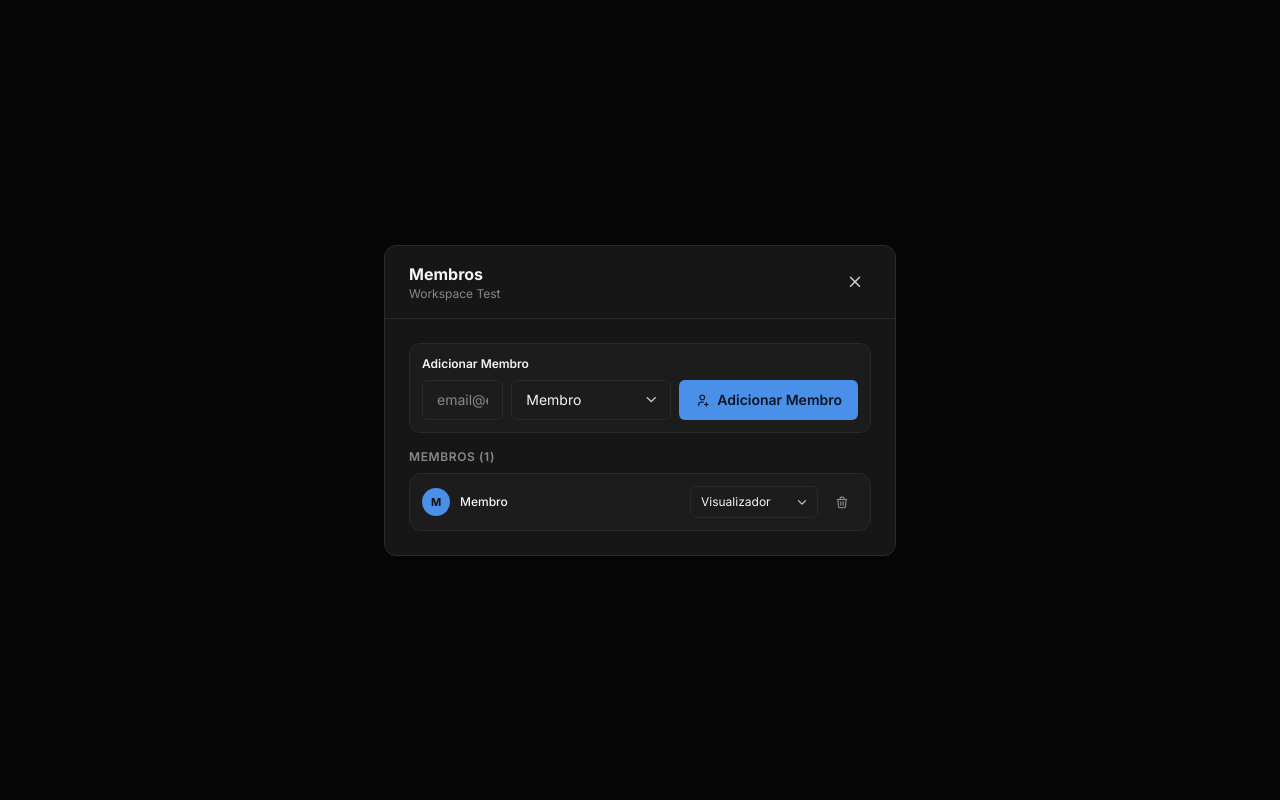
WorkspaceMembersModal › handles member without user object and fallback error messages
The width and height of the screenshot is (1280, 800).
Step 1. Select "Administrador" in the dropdown named "Função Membro" → (754, 502), box [690,486,818,518]
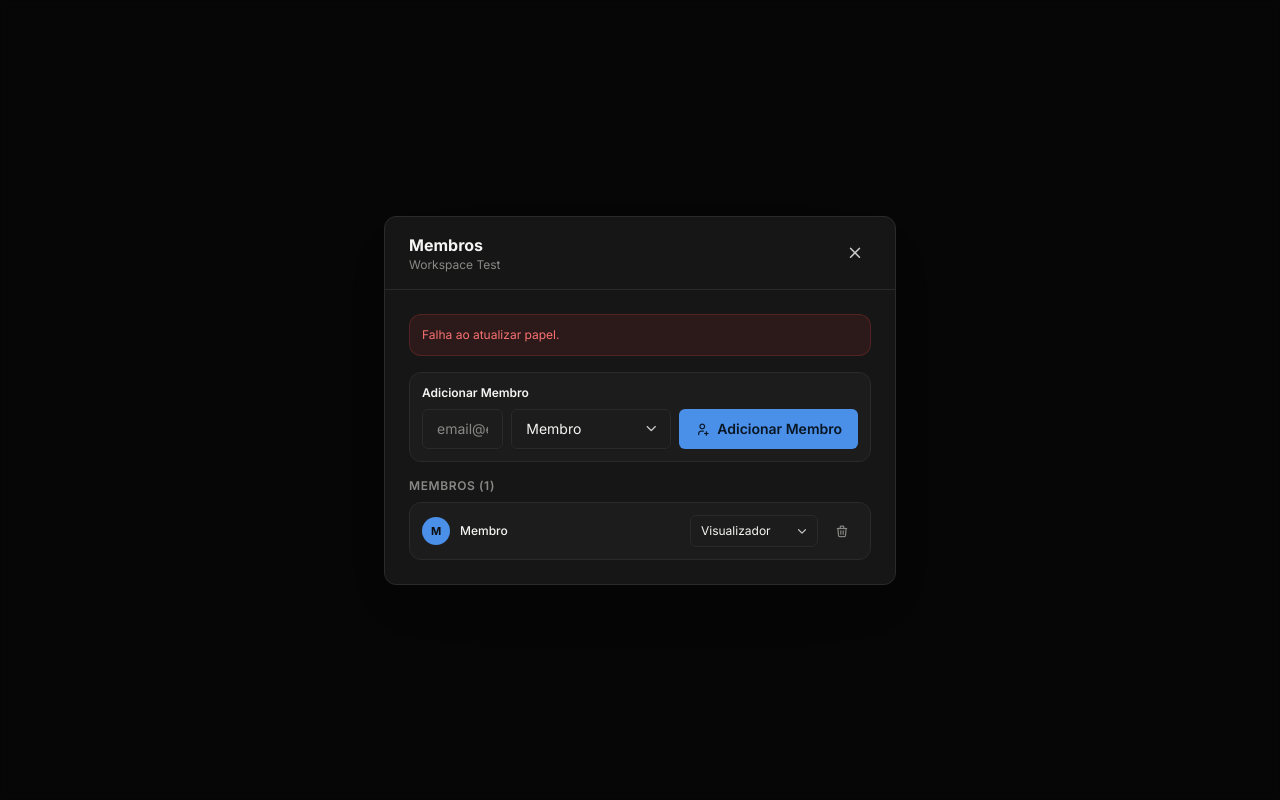
Expected: the text "Falha ao atualizar papel." is shown, [409,314,871,356]
Step 2. Click the button named "Remover Membro Membro" → (842, 530), box [826,514,858,546]
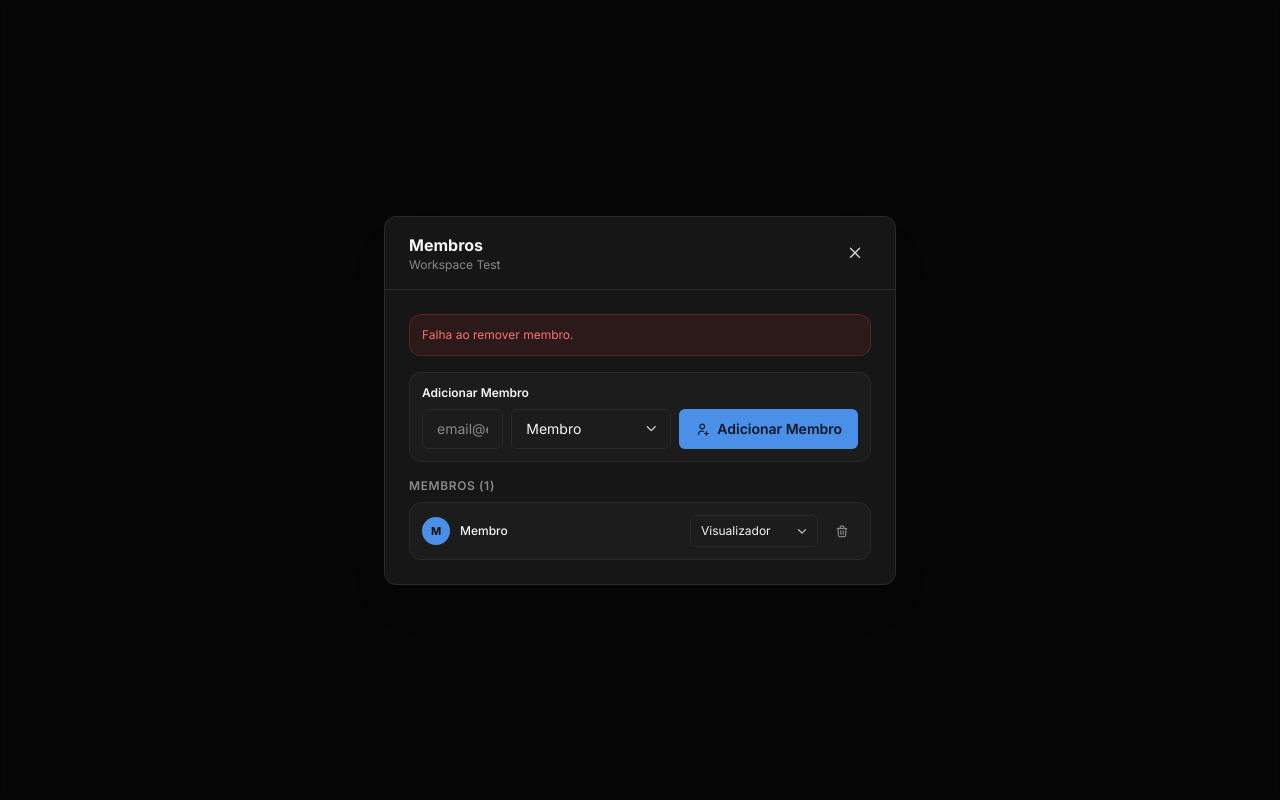
Expected: the text "Falha ao remover membro." is shown, [409,314,871,356]
Step 3. Type "test@anon.com" into the field with placeholder "email@exemplo.com" → (463, 428), box [422,408,503,448]
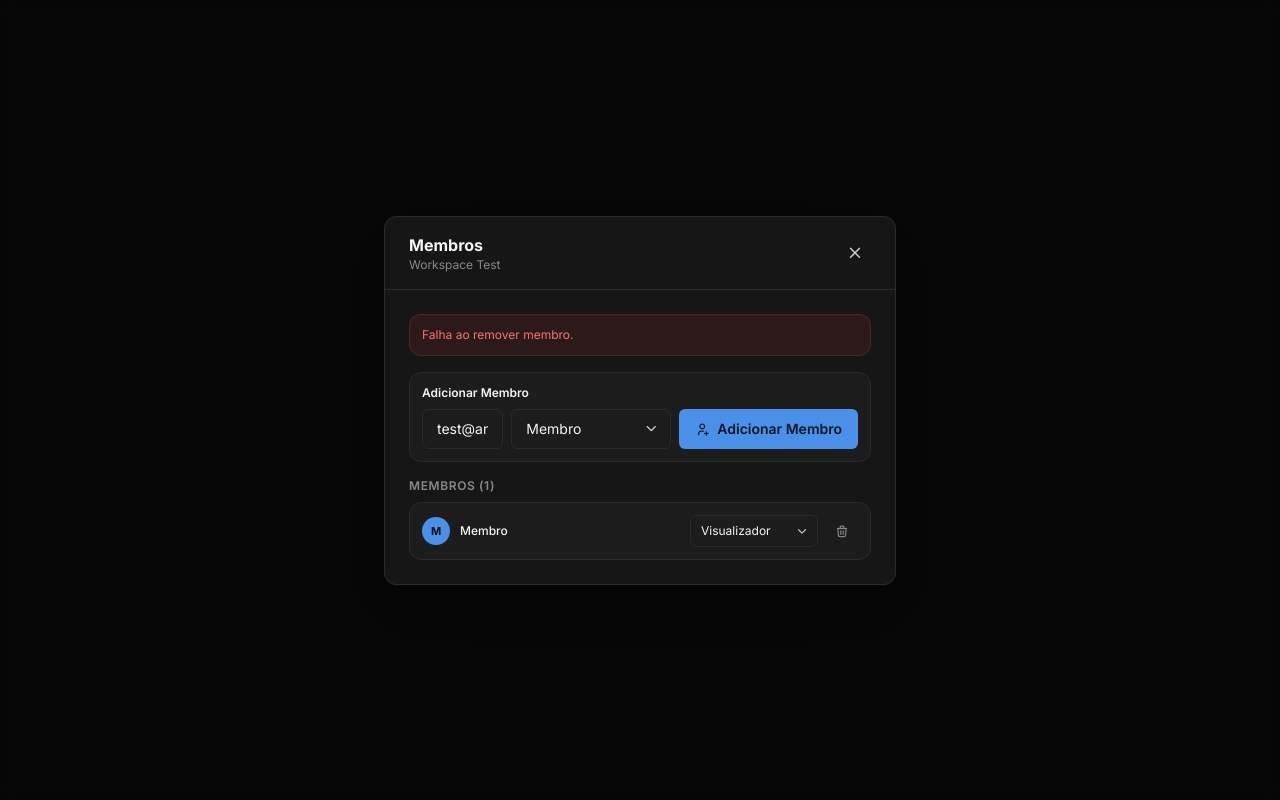
Step 4. Click the button "Adicionar Membro" → (769, 428), box [679,408,858,448]
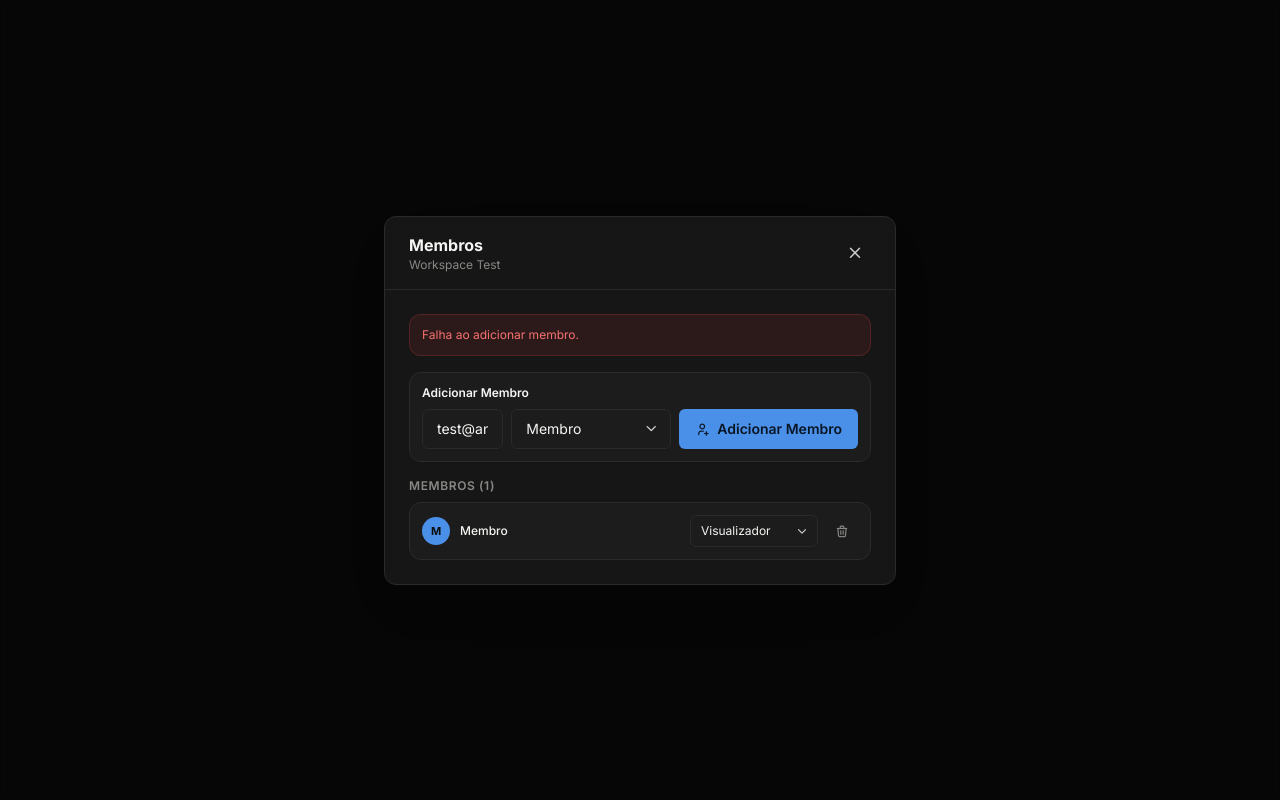
Expected: the text "Falha ao adicionar membro." is shown, [409,314,871,356]
